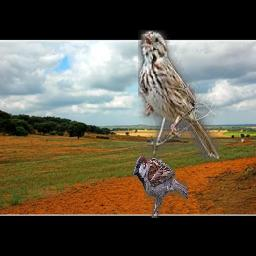Sparrow: (139, 31, 220, 160), (134, 156, 189, 219)
